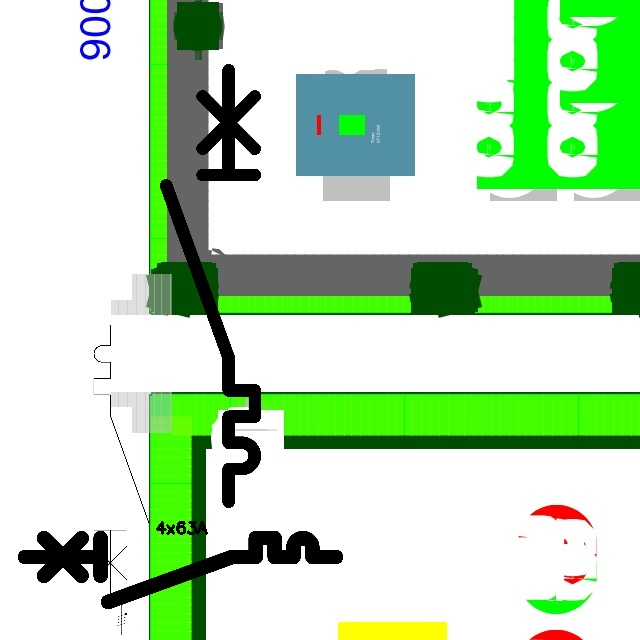interruptor_termomagnetico: (155, 59, 266, 513), (17, 530, 344, 610), (87, 318, 156, 603)
